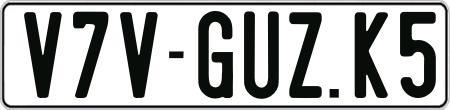5: (398, 12, 435, 98)
7: (70, 10, 107, 100)
G: (195, 9, 236, 98)
K: (354, 10, 391, 101)
U: (241, 11, 282, 99)
V: (23, 10, 67, 99), (119, 11, 159, 97)
Z: (287, 10, 322, 99)
